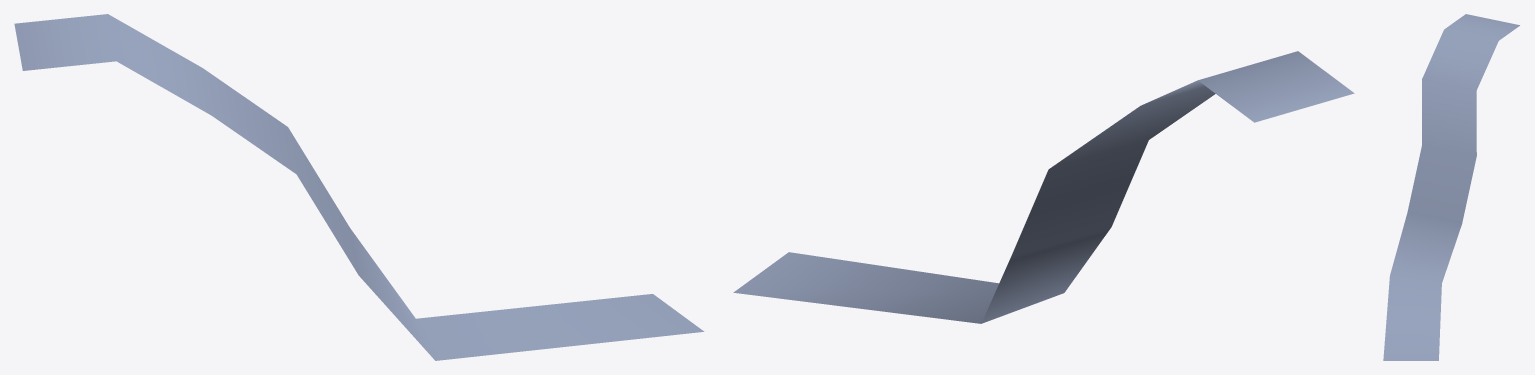
The model's file is SeaRivers.fbx.
The picture shows the model from 3 angles, left to right: view 1: azimuth 30°, elevation 25°; view 2: azimuth 150°, elevation 25°; view 3: azimuth 270°, elevation 25°; orthographic projection. The views are drawn at different scales.
Parts seen in each view (by area): view 1: polySurface2; view 2: polySurface2; view 3: polySurface2.
Boxes of the visible parts, x1,y1,x2,y2 form: polySurface2: (14,14,704,360); polySurface2: (733,51,1354,323); polySurface2: (1383,14,1519,360).
Size of what is drawn, in the model's own units: 22.87 by 12.96 by 8.39.
